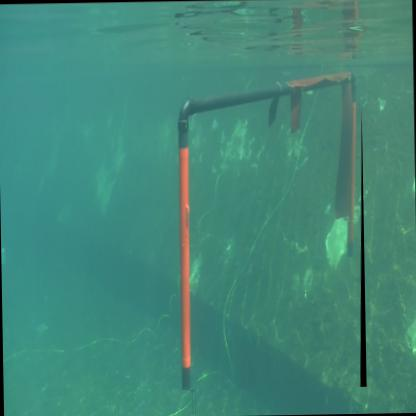gate: (177, 63, 369, 392)
